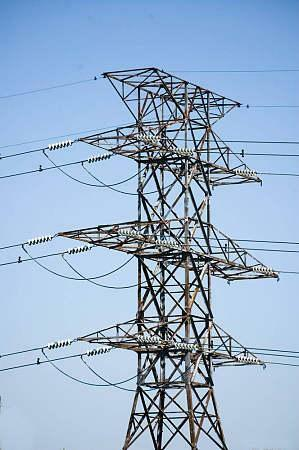power_tower: (72, 58, 294, 450)
